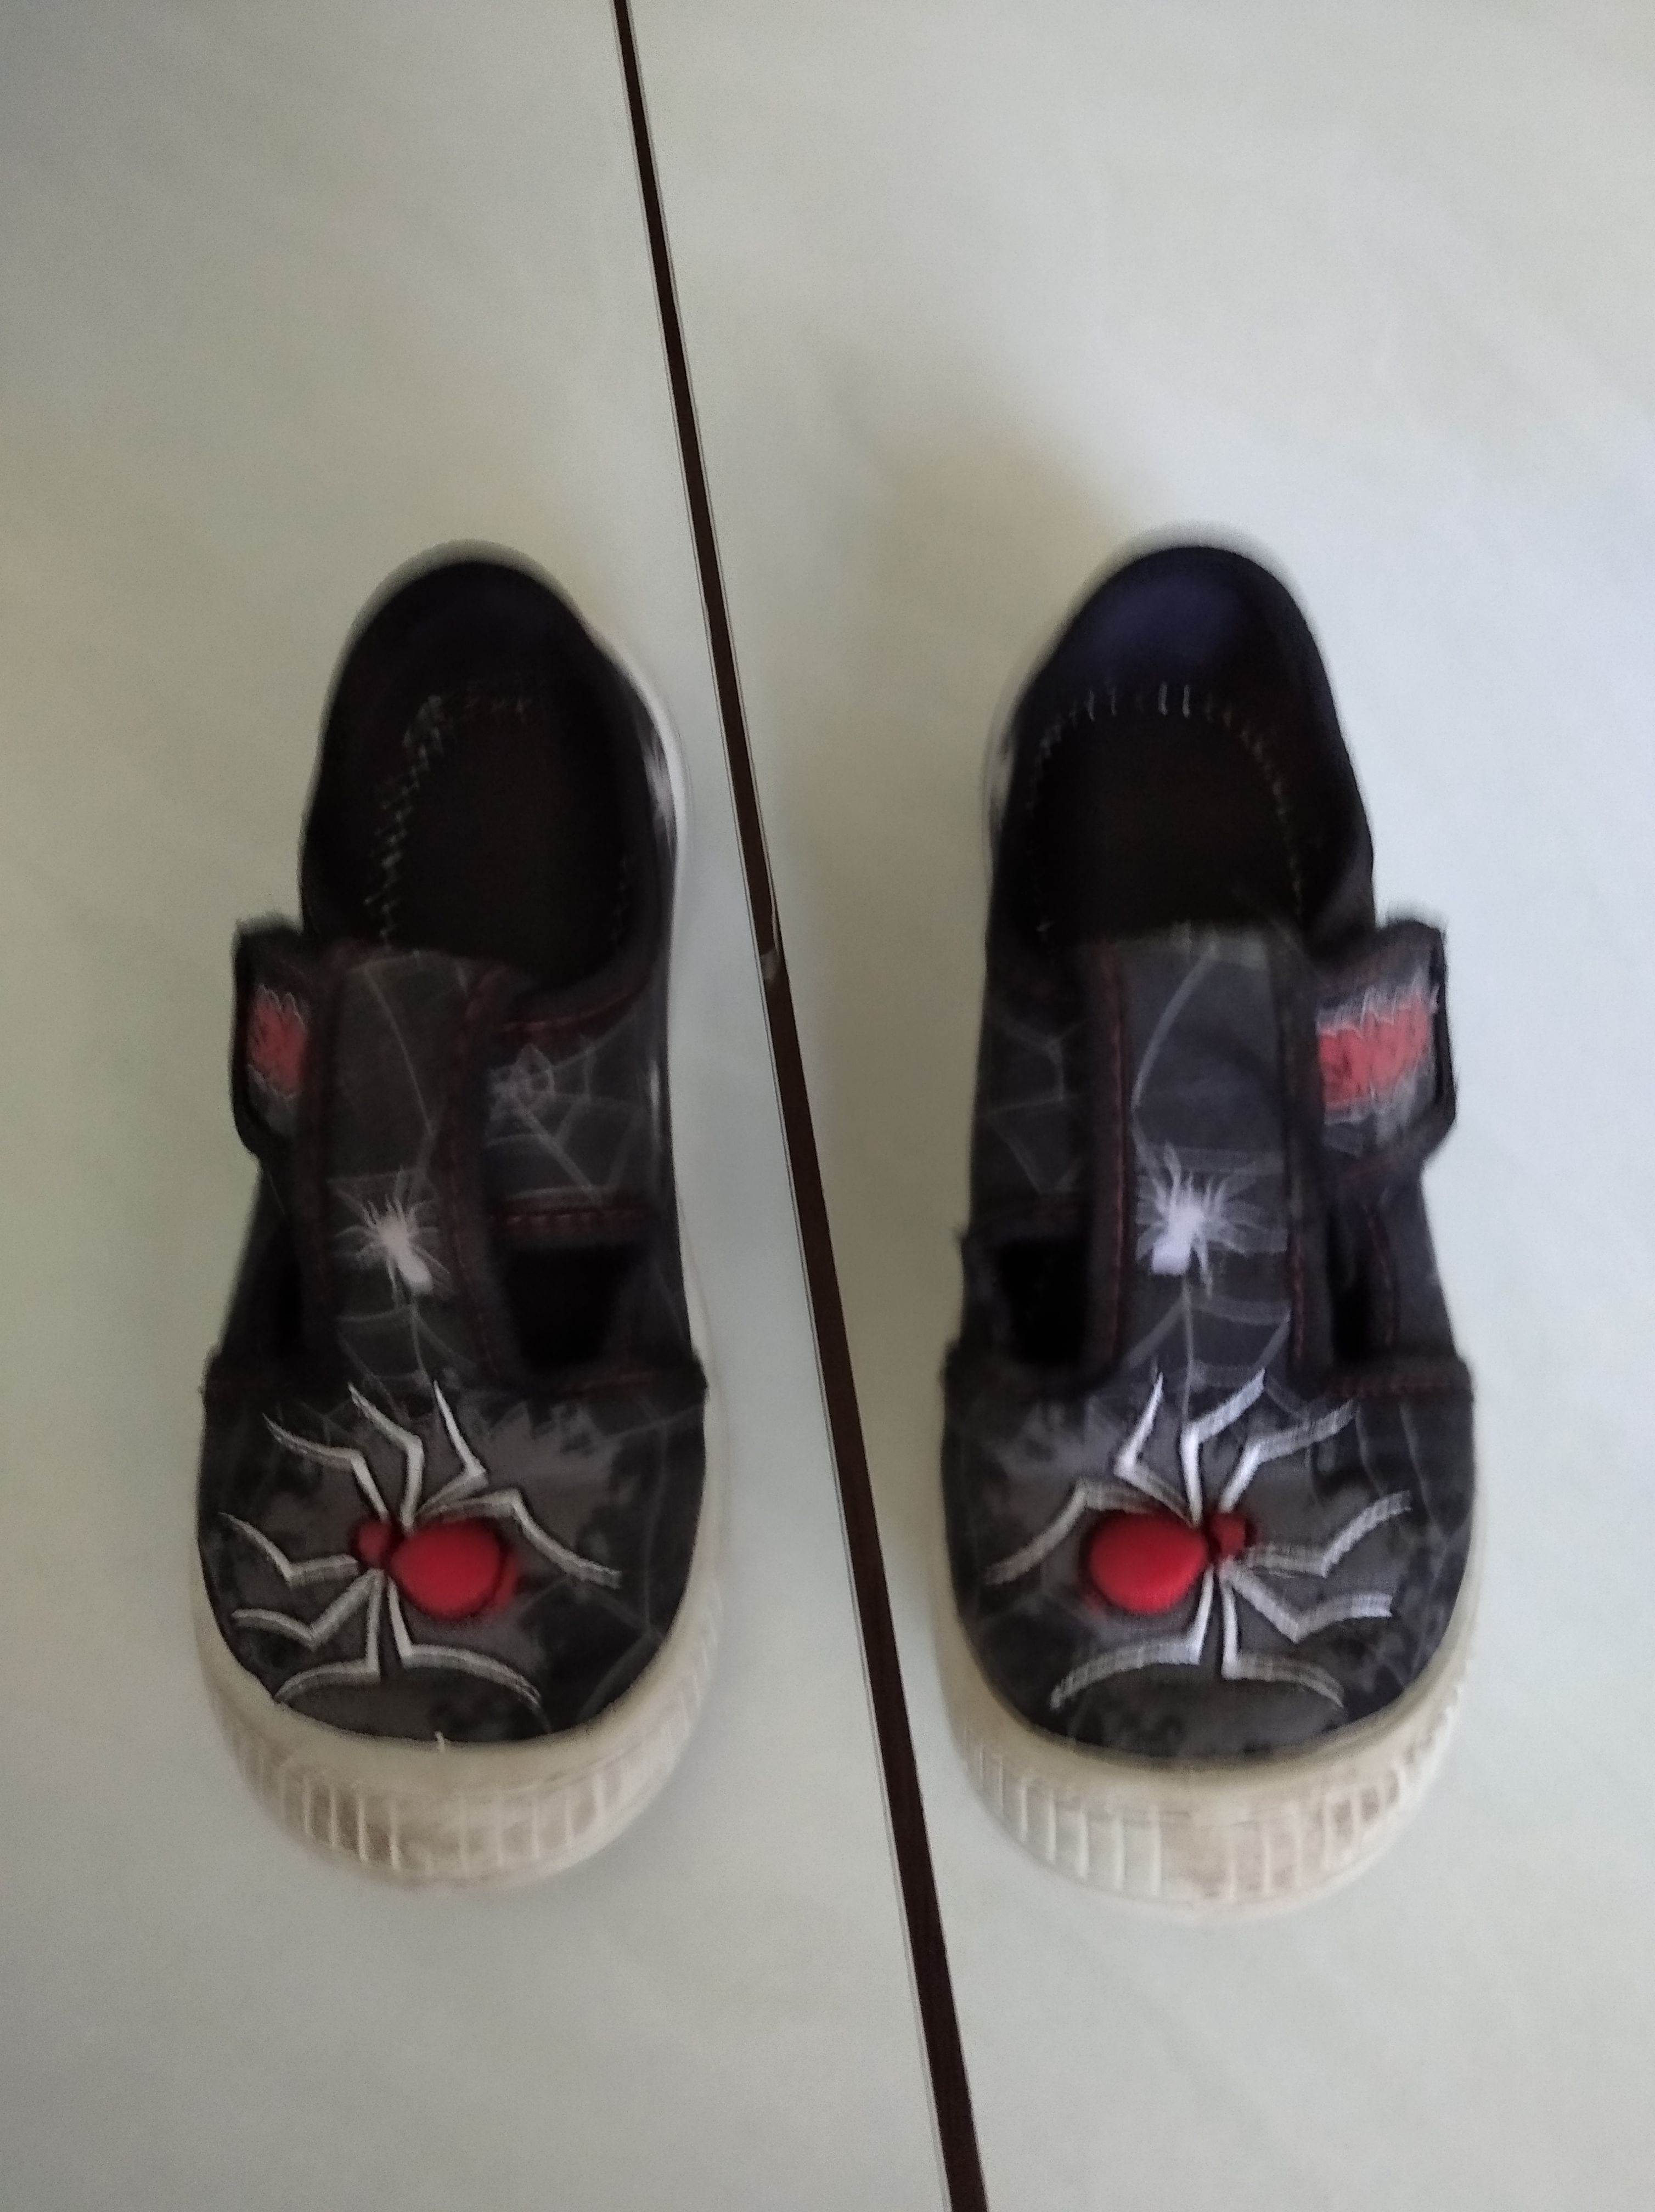clothes: (921, 507, 1509, 1892), (196, 527, 716, 1875)
